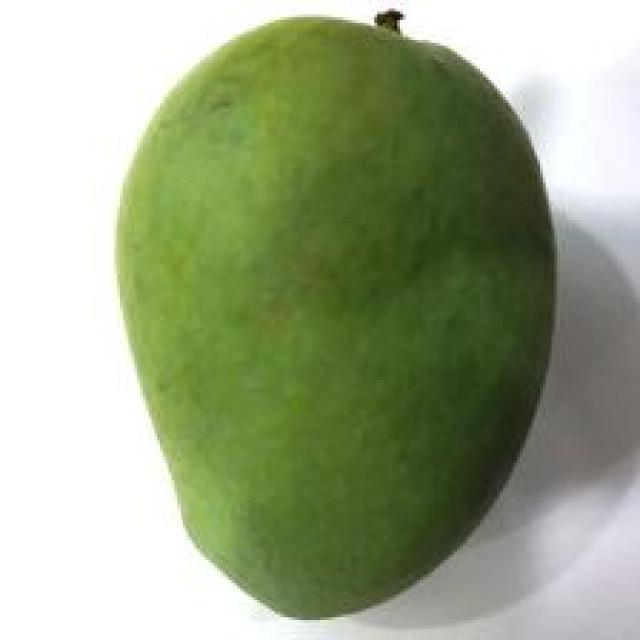Good_Mango: (111, 14, 560, 623)
